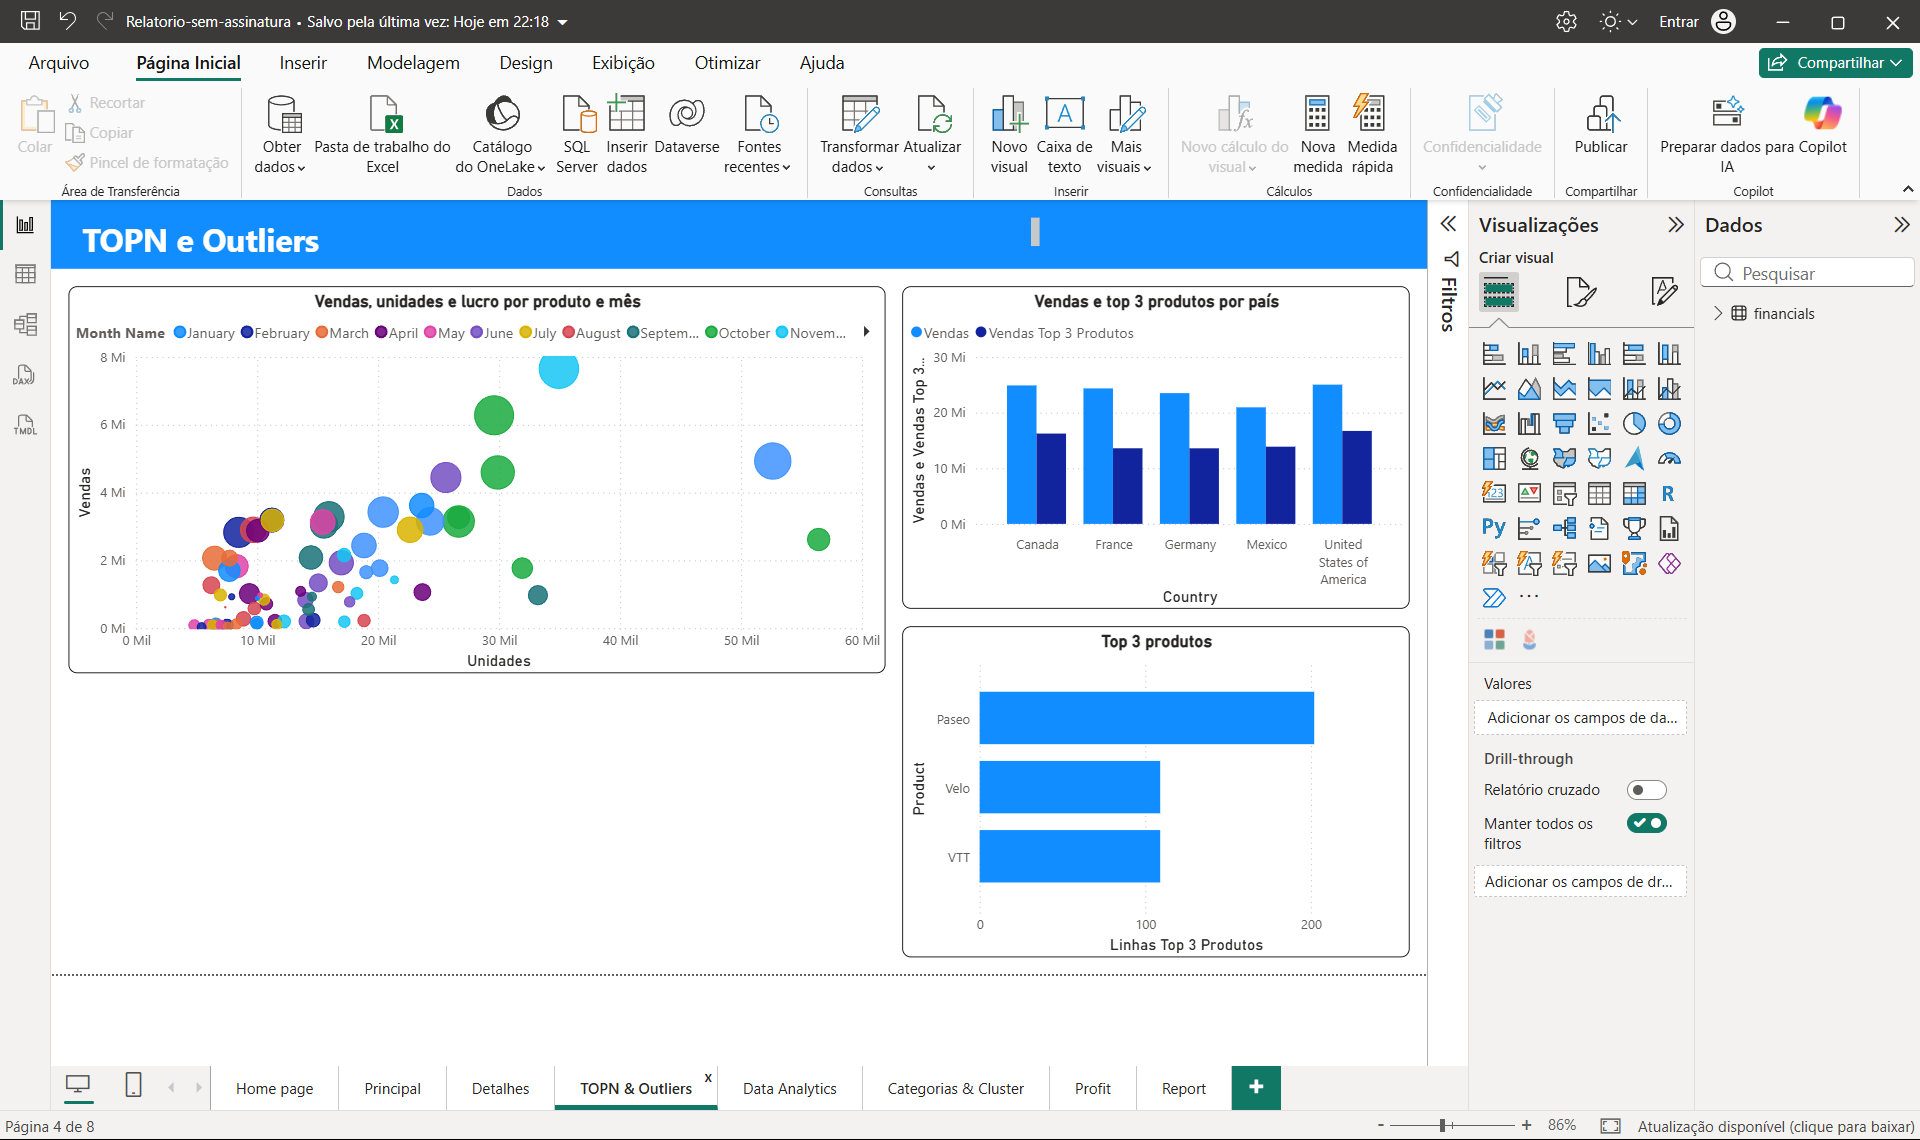

This screenshot's page, from the dashboard's own definition file:
{"tool":"powerbi","page":{"name":"TOPN & Outliers","canvas":[1280,720],"ordinal":3},"visuals":[{"type":"shape","box":[0,0,1280,64],"z":0},{"type":"textbox","box":[24,12,900,42],"z":5},{"type":"scatterChart","title":"Vendas, unidades e lucro por produto e mês","fields":{"Category":["financials.Product"],"Series":["financials.Month Name"],"Size":["financials.Lucro"],"X":["financials.Unidades"],"Y":["financials.Vendas"]},"box":[16,80,760,360],"z":1000},{"type":"clusteredColumnChart","title":"Vendas e top 3 produtos por país","fields":{"Category":["financials.Country"],"Y":["financials.Vendas","financials.Vendas Top 3 Produtos"]},"box":[792,80,472,300],"z":1000},{"type":"clusteredBarChart","title":"Top 3 produtos","fields":{"Category":["financials.Product"],"Y":["financials.Linhas Top 3 Produtos"]},"box":[792,396,472,308],"z":1000}]}

Visuals, with their boxes on the page's 1280x720 design canvas (x1, y1, x2, y2). These are canvas units, not pixel positions in the 1920x1140 screenshot, which may show the page scaled, cropped or inside an application window:
shape: [0,0,1280,64]
textbox: [24,12,924,54]
"Vendas, unidades e lucro por produto e mês" scatterChart: [16,80,776,440]
"Vendas e top 3 produtos por país" clusteredColumnChart: [792,80,1264,380]
"Top 3 produtos" clusteredBarChart: [792,396,1264,704]
